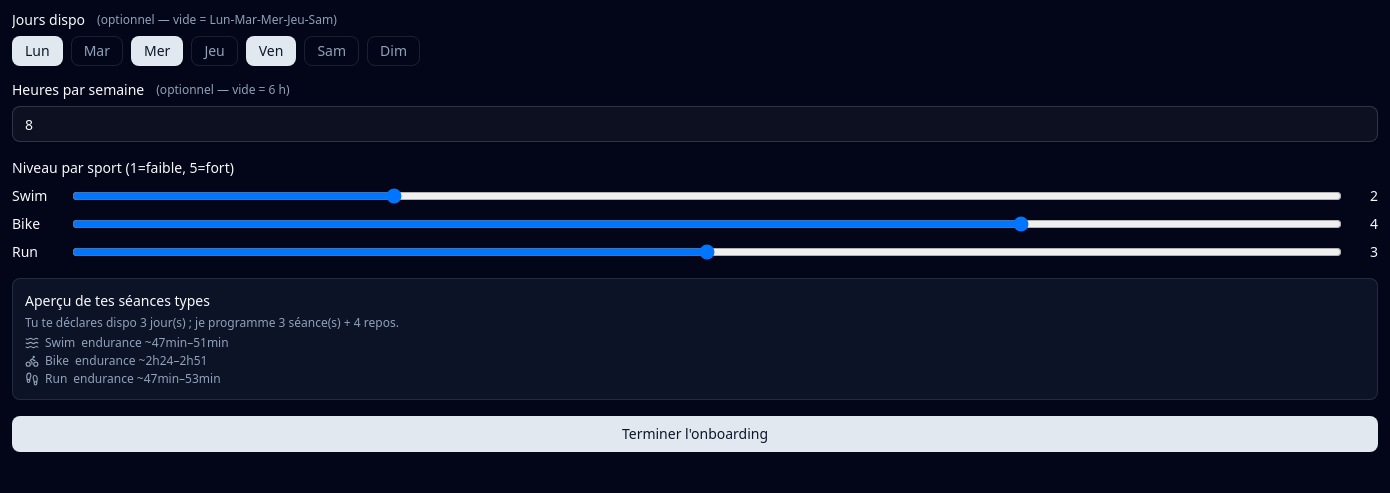
Test case: StepDispoForm › shows field errors when server returns validation errors
Click the button "Terminer l'onboarding" at (695, 434), box top-left (12, 416), bottom-right (1378, 452)
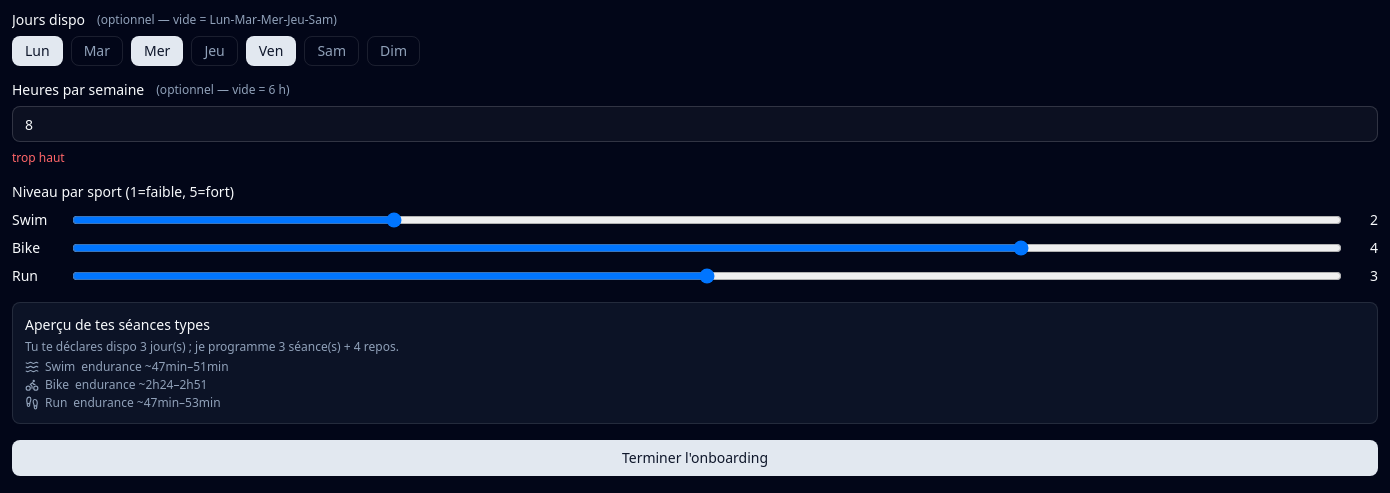
Now the text "trop haut" is shown, box top-left (12, 149), bottom-right (65, 166)
